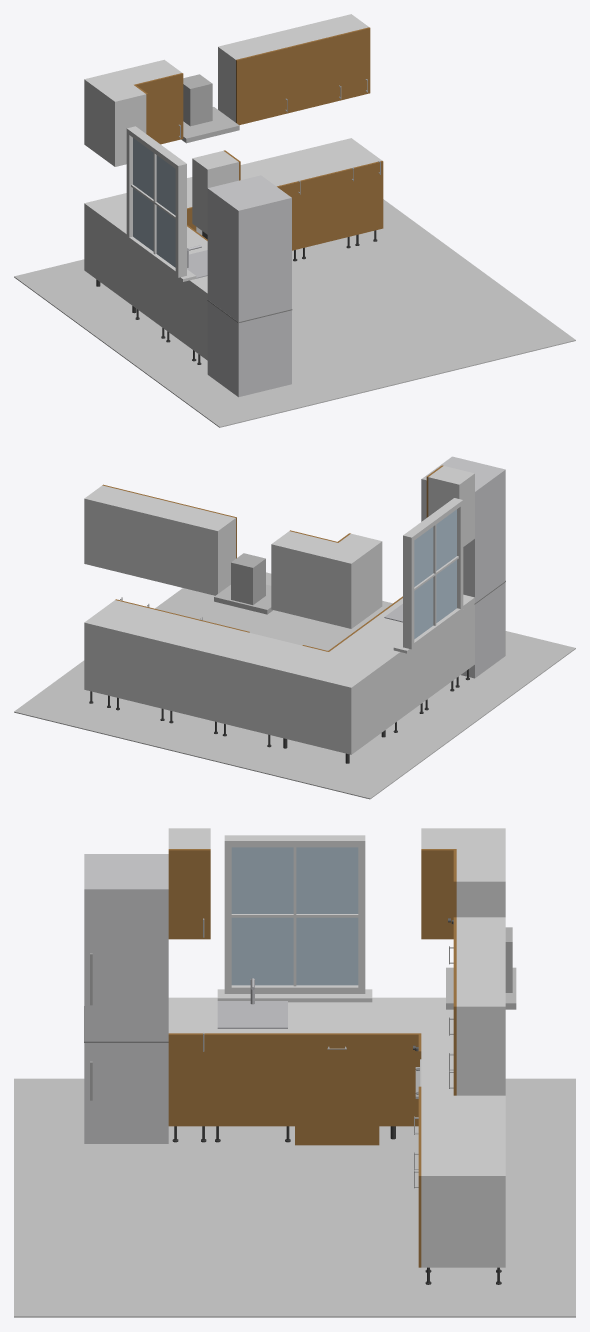
File: hybrid_l_shape_pro_corner.glb
3 views of the same model, one above another, from view 1: azimuth 30°, elevation 25°; view 2: azimuth 150°, elevation 25°; view 3: azimuth 270°, elevation 25° (orthographic). The views are drawn at different scales.
Visible parts, largest first — view 1: world; view 2: world; view 3: world.
Boxes of the visible parts, x1,y1,x2,y2 form: world: (14,14,575,427); world: (14,456,575,799); world: (14,828,575,1317).
Size of the model in its own units: 400 by 221 by 400.
